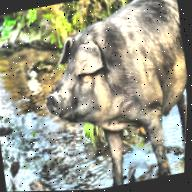boar: (25, 0, 192, 191)
